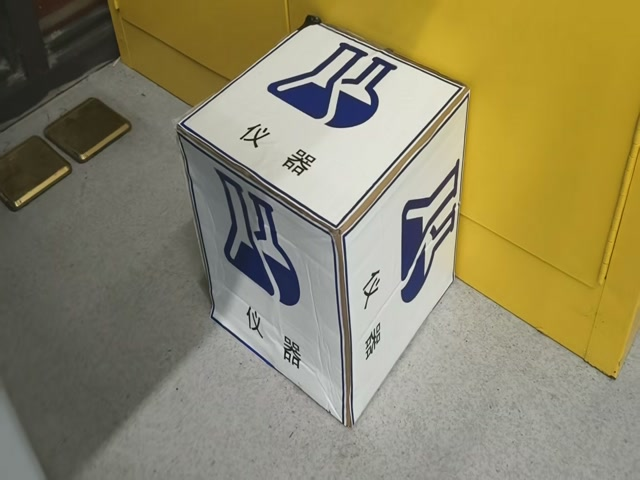Cube_ins: (169, 24, 463, 240)
